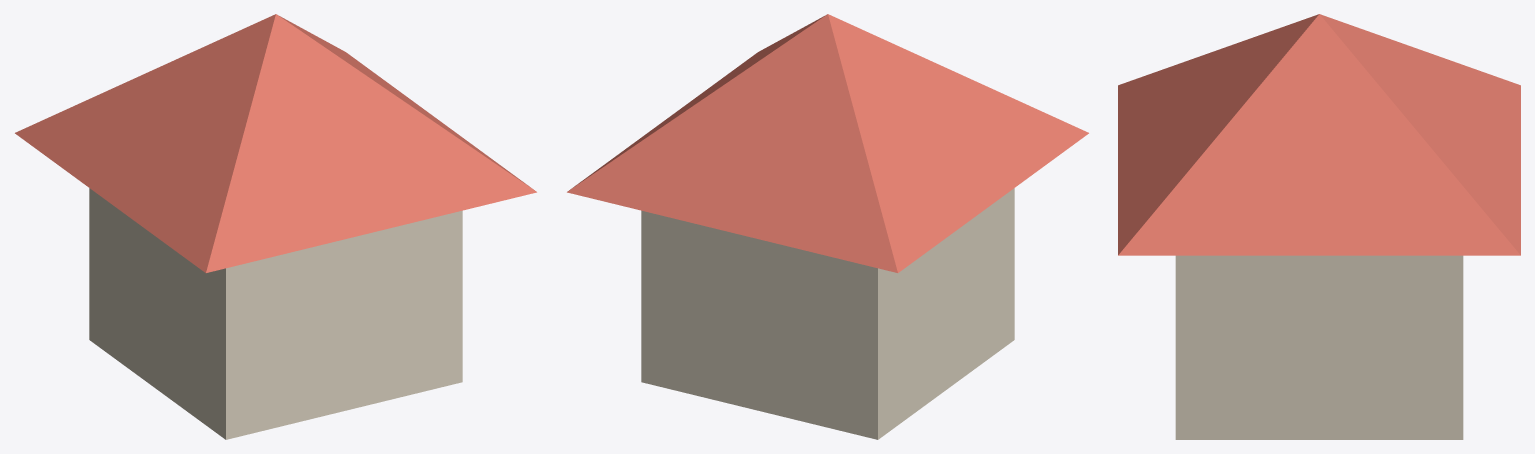
Rendered from house.gltf.
3 views of the same model, side by side, from view 1: azimuth 30°, elevation 25°; view 2: azimuth 150°, elevation 25°; view 3: azimuth 270°, elevation 25° (orthographic). The views are drawn at different scales.
Visible parts, largest first — view 1: House; view 2: House; view 3: House.
Part boxes in pixels (left/top/right/bottom): House: left=15, top=14, right=536, bottom=439; House: left=567, top=14, right=1088, bottom=439; House: left=1118, top=14, right=1520, bottom=439.
Size of the model in its own units: 1.4 by 1.4 by 1.4.
